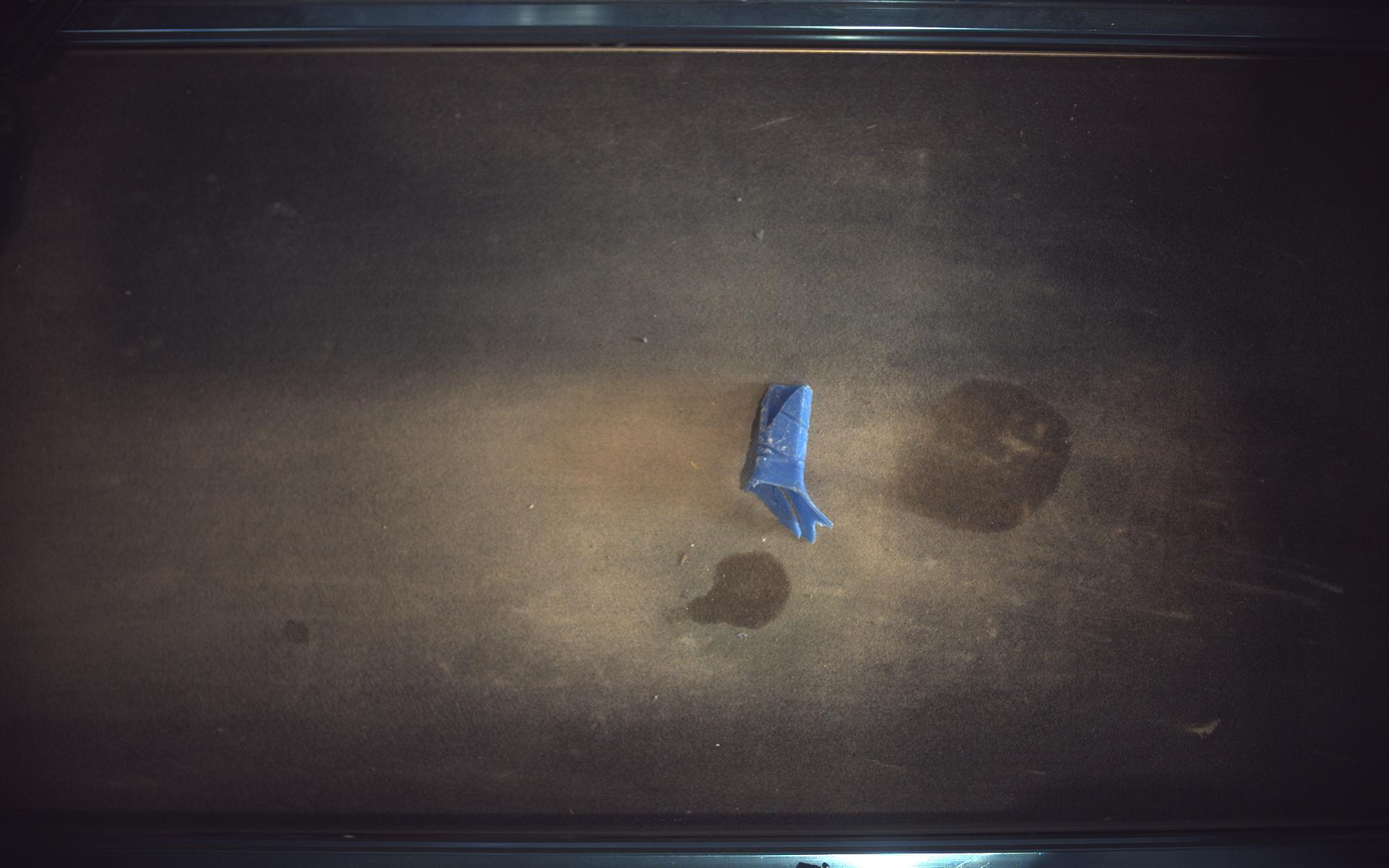plastic: (742, 384, 834, 543)
